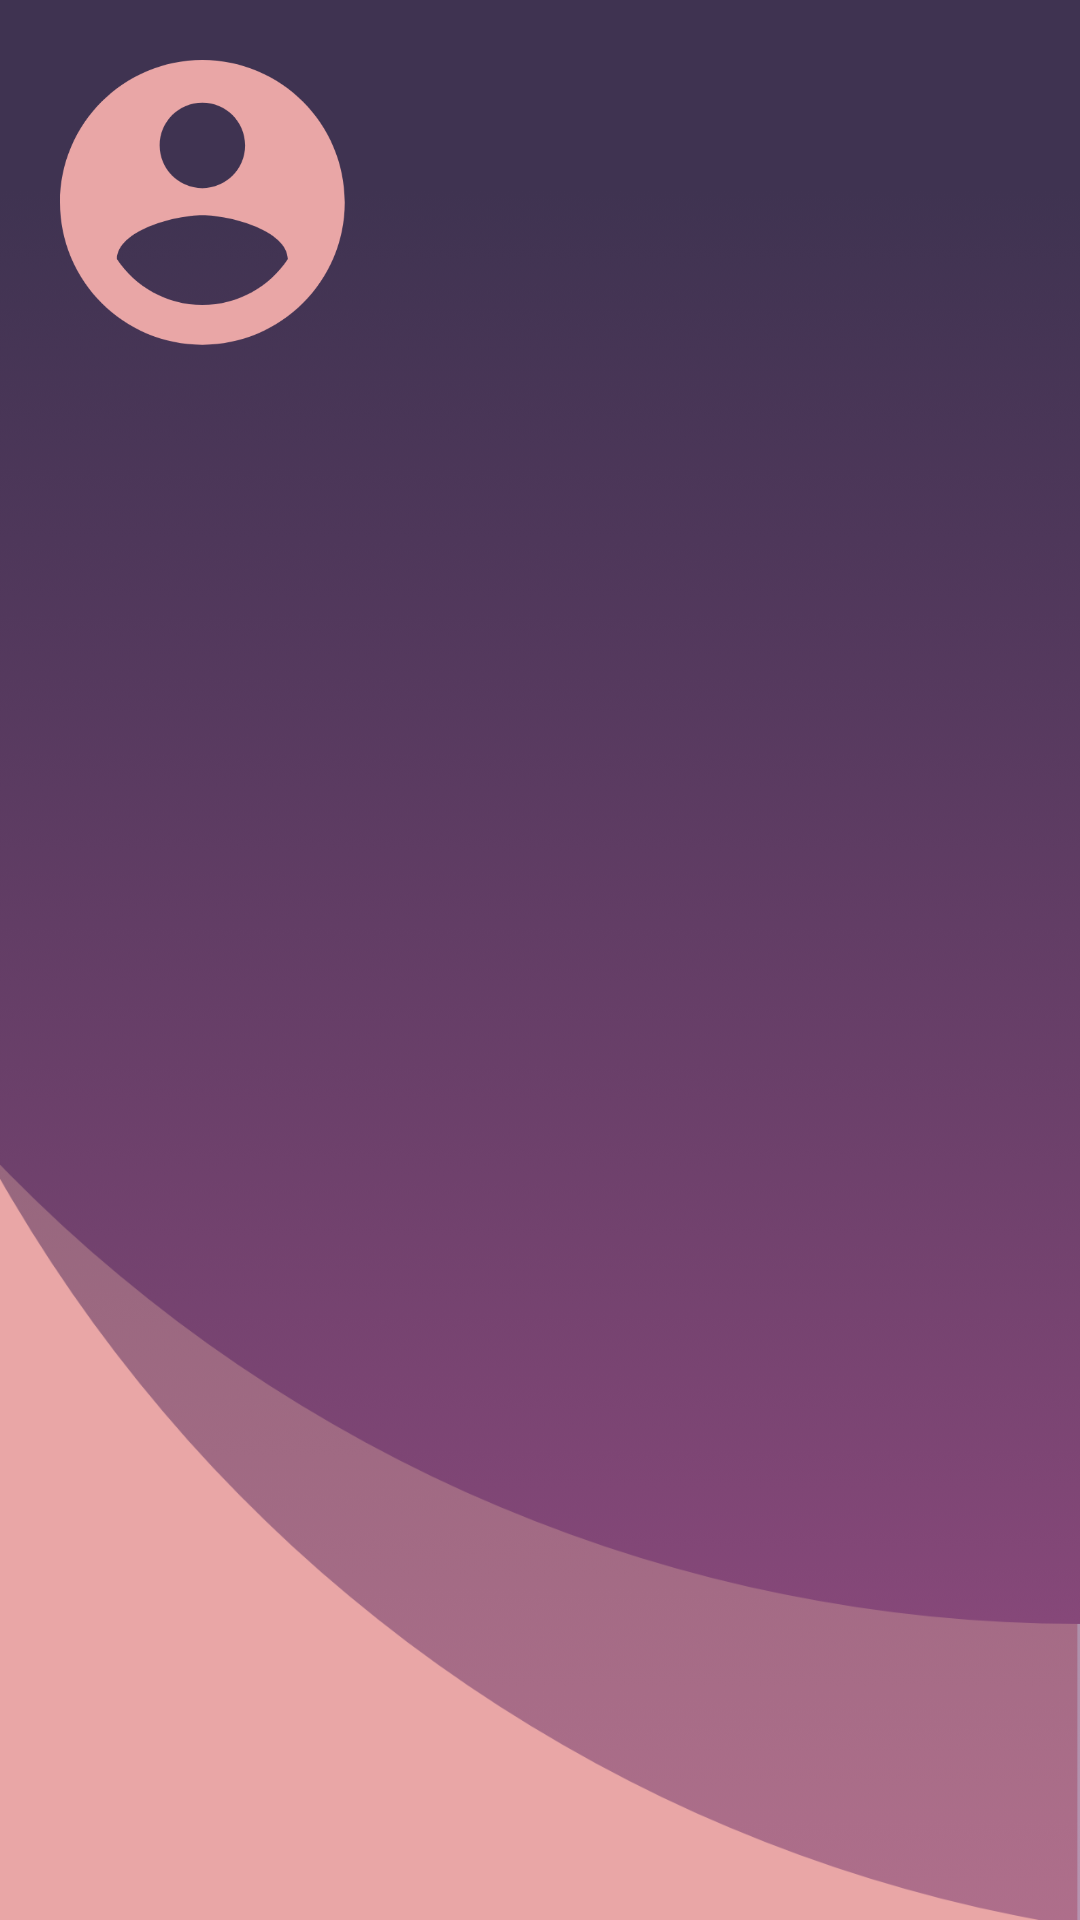

Icon click points for this 1080 × 1920 phone screenshot, format (x,y):
account circle: (202,202)
